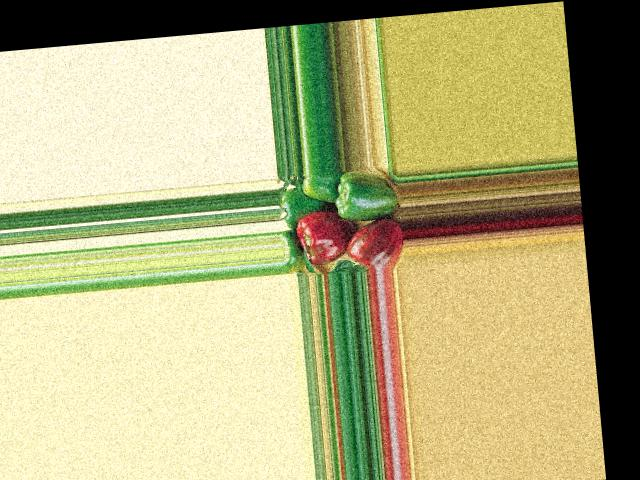bell_pepper: (344, 220, 405, 270)
